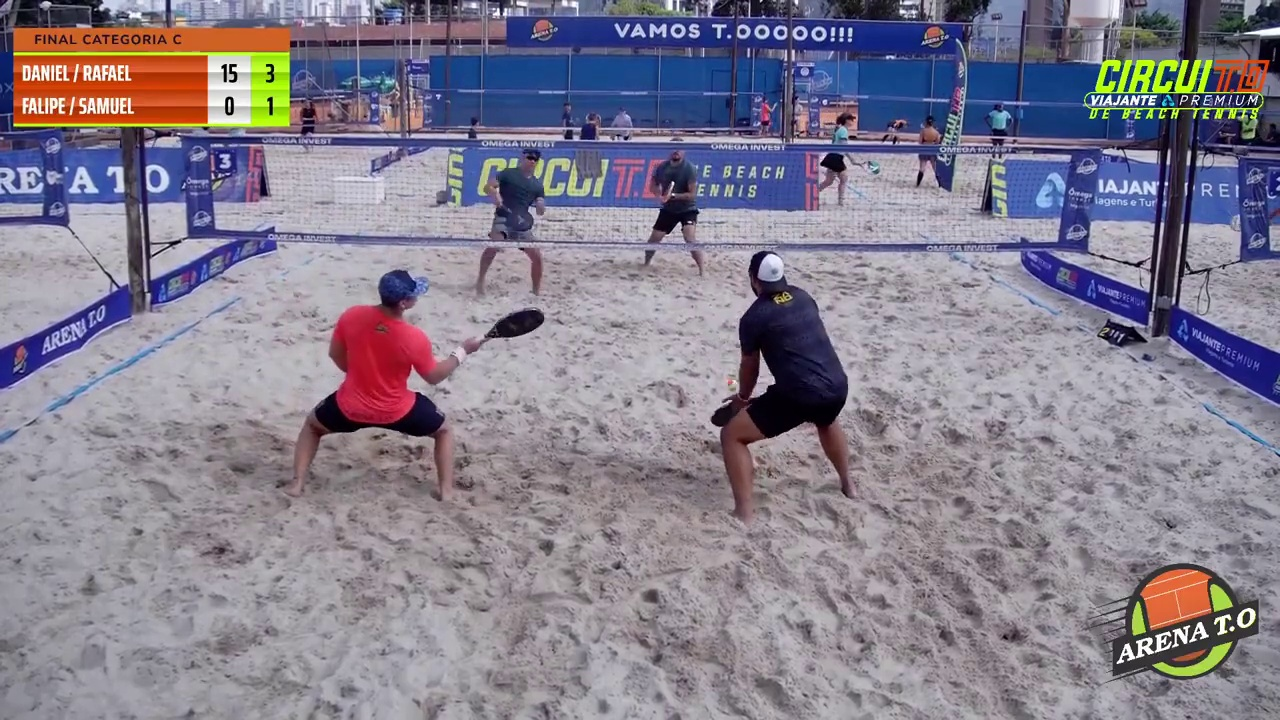court_line: (459, 0, 580, 382)
